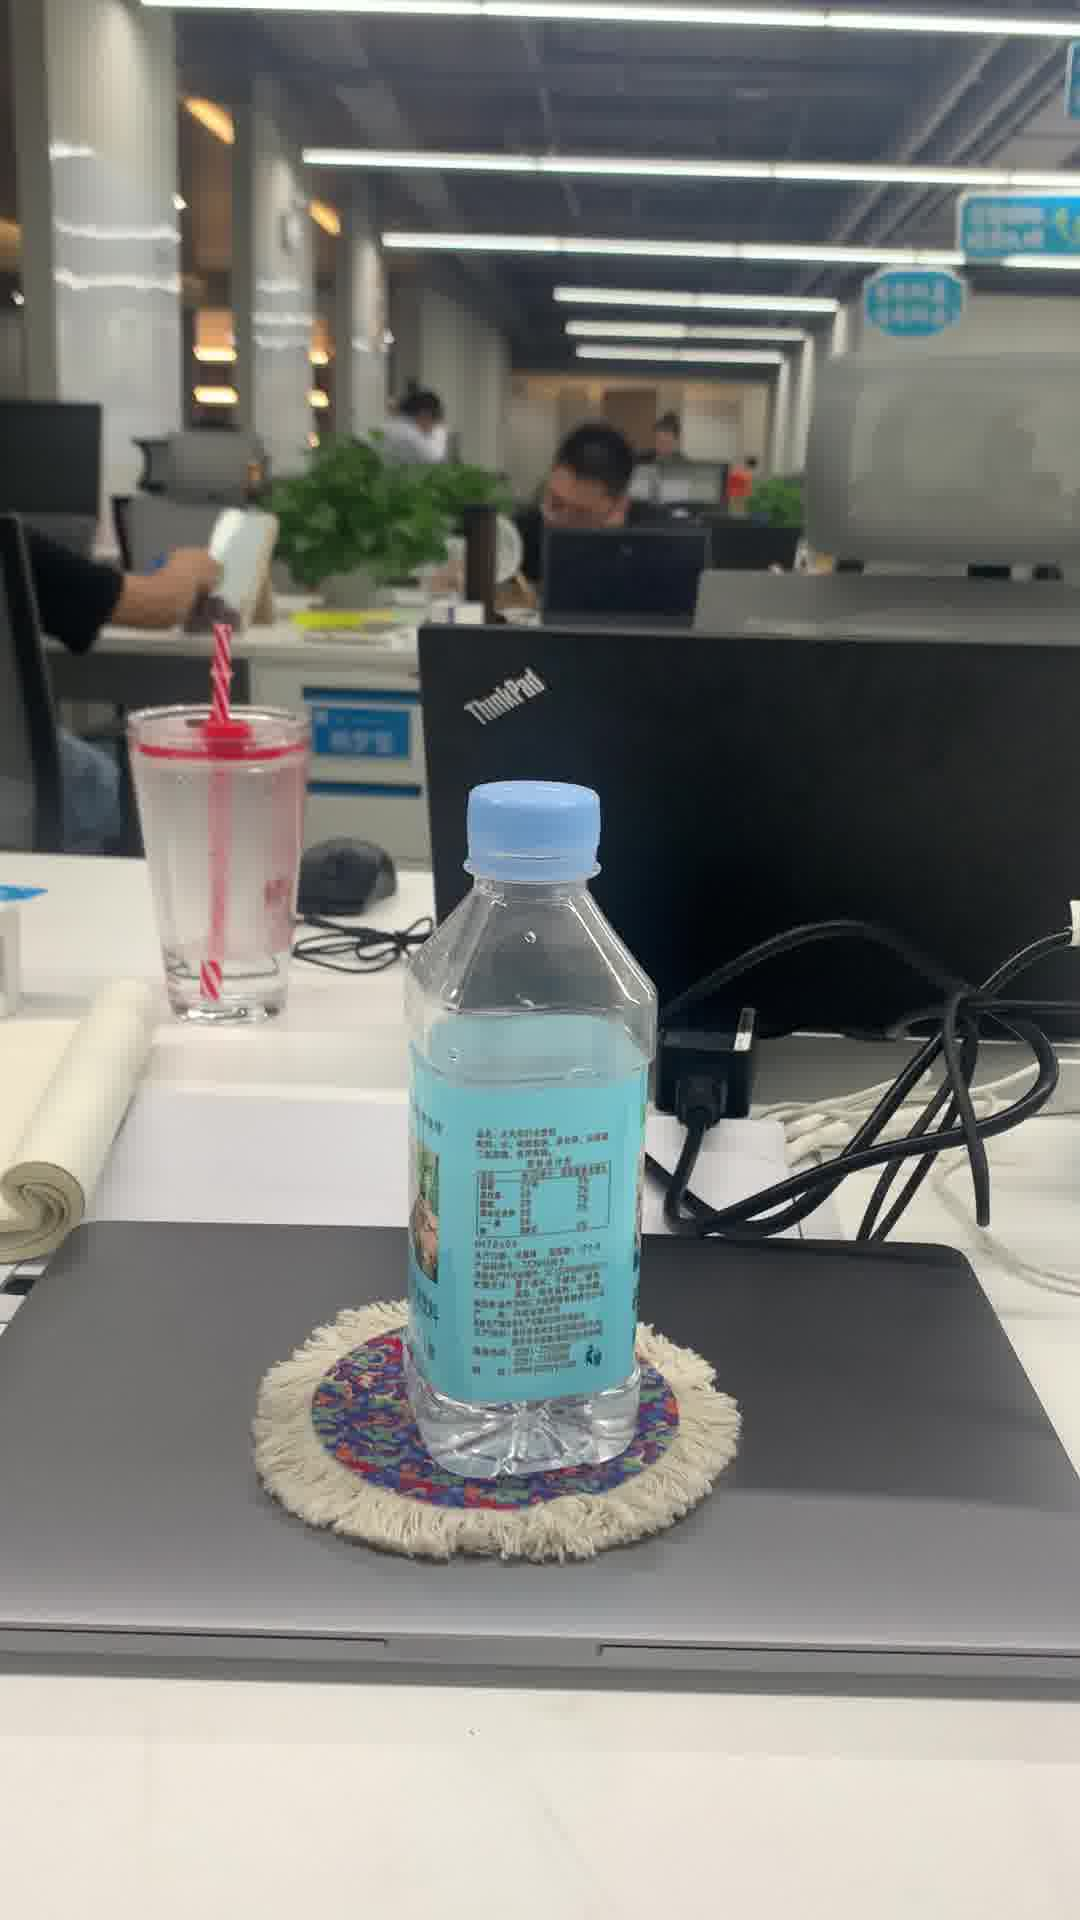水瓶: (400, 775, 665, 1502)
